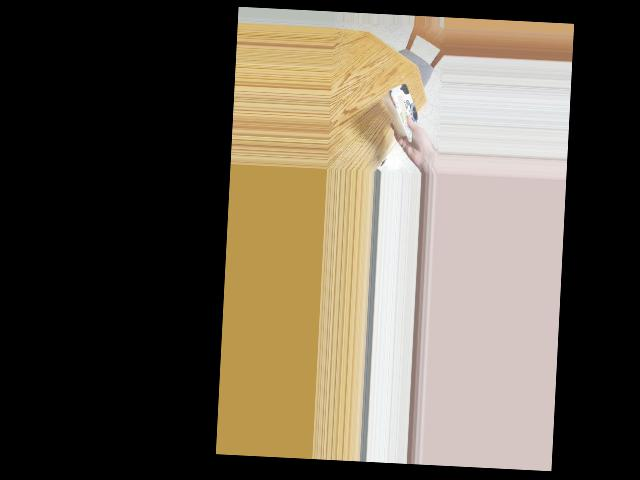cheese: (381, 85, 428, 134)
